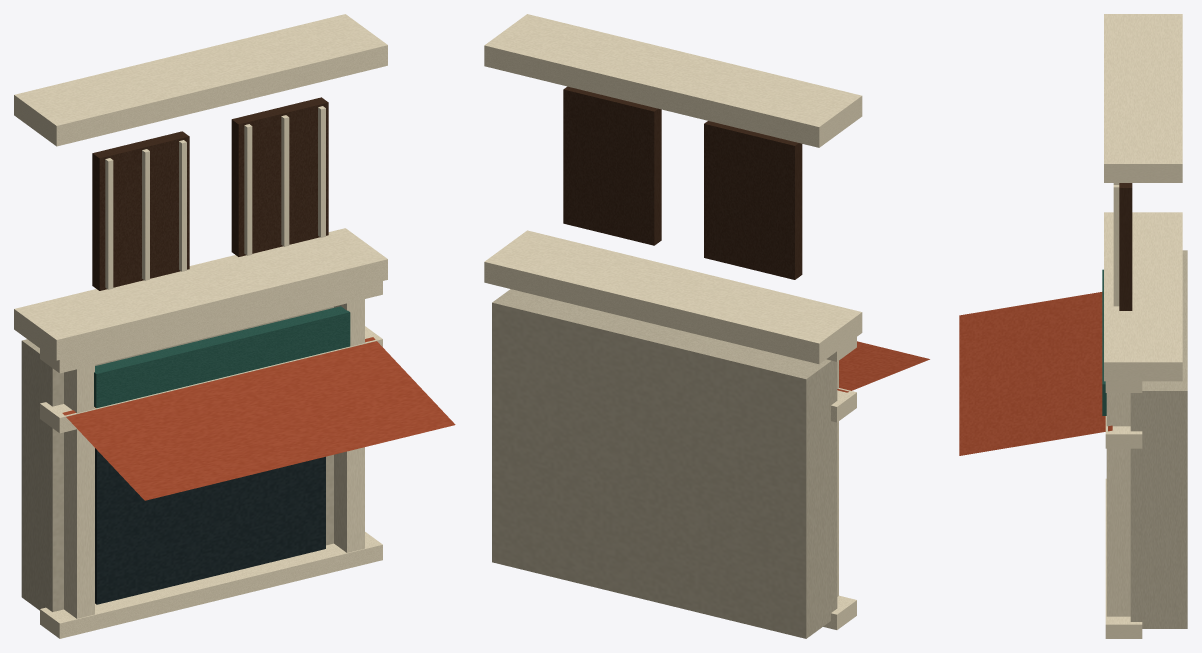
File: shop_lod1.glb
3 renders of one model, left to right at view 1: azimuth 30°, elevation 25°; view 2: azimuth 150°, elevation 25°; view 3: azimuth 270°, elevation 25°, orthographic. The views are drawn at different scales.
Visible parts, largest first — view 1: OldCityShop_LOD1; view 2: OldCityShop_LOD1; view 3: OldCityShop_LOD1.
Part boxes in pixels (box(x1,y1,x2,y2)): OldCityShop_LOD1: box(14, 14, 455, 638); OldCityShop_LOD1: box(484, 14, 929, 638); OldCityShop_LOD1: box(959, 14, 1187, 638).
Size of the model in its own units: 4.05 by 6.01 by 2.61.
1 material, 1 textured.
